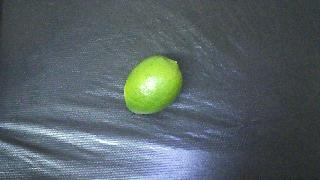LOCAL: (124, 56, 182, 114)
